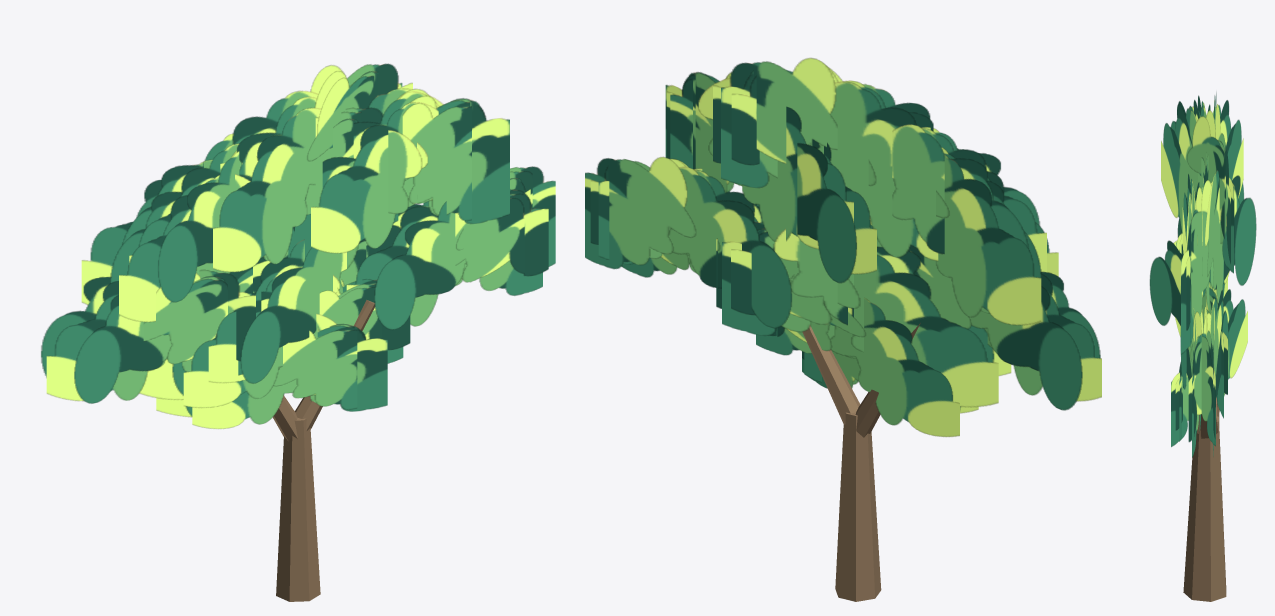
Rendered from TREE_NATIVE_ROUNDED_001_LOD_CLOSE.glb.
3 renders of one model, left to right at view 1: azimuth 30°, elevation 25°; view 2: azimuth 150°, elevation 25°; view 3: azimuth 270°, elevation 25°, orthographic. The views are drawn at different scales.
Parts seen in each view (by area): view 1: GG_TREE_NATIVE_ROUNDED_001_FRONT_02_01, GG_TREE_NATIVE_ROUNDED_001_FRONT_03_02, GG_TREE_NATIVE_ROUNDED_001_FRONT_05_02, GG_TREE_NATIVE_ROUNDED_001_BRANCH_00, GG_TREE_NATIVE_ROUNDED_001_FRONT_03_01, GG_TREE_NATIVE_ROUNDED_001_FRONT_04_01, GG_TREE_NATIVE_ROUNDED_001_FRONT_00_01, GG_TREE_NATIVE_ROUNDED_001_FRONT_01_02, GG_TREE_NATIVE_ROUNDED_001_FRONT_06_00, GG_TREE_NATIVE_ROUNDED_001_FRONT_00_00, GG_TREE_NATIVE_ROUNDED_001_REAR_03_01, GG_TREE_NATIVE_ROUNDED_001_FRONT_04_00 (+27 smaller); view 2: GG_TREE_NATIVE_ROUNDED_001_REAR_01_00, GG_TREE_NATIVE_ROUNDED_001_REAR_05_00, GG_TREE_NATIVE_ROUNDED_001_REAR_06_01, GG_TREE_NATIVE_ROUNDED_001_REAR_02_01, GG_TREE_NATIVE_ROUNDED_001_REAR_04_02, GG_TREE_NATIVE_ROUNDED_001_REAR_04_01, GG_TREE_NATIVE_ROUNDED_001_REAR_02_02, GG_TREE_NATIVE_ROUNDED_001_REAR_01_02, GG_TREE_NATIVE_ROUNDED_001_BRANCH_00, GG_TREE_NATIVE_ROUNDED_001_REAR_00_01, GG_TREE_NATIVE_ROUNDED_001_REAR_03_00, GG_TREE_NATIVE_ROUNDED_001_REAR_03_02 (+23 smaller); view 3: GG_TREE_NATIVE_ROUNDED_001_BRANCH_00, GG_TREE_NATIVE_ROUNDED_001_FRONT_02_01, GG_TREE_NATIVE_ROUNDED_001_REAR_03_01, GG_TREE_NATIVE_ROUNDED_001_FRONT_05_02, GG_TREE_NATIVE_ROUNDED_001_REAR_03_00, GG_TREE_NATIVE_ROUNDED_001_FRONT_02_02, GG_TREE_NATIVE_ROUNDED_001_REAR_03_02, GG_TREE_NATIVE_ROUNDED_001_REAR_06_01, GG_TREE_NATIVE_ROUNDED_001_FRONT_04_02, GG_TREE_NATIVE_ROUNDED_001_REAR_01_00, GG_TREE_NATIVE_ROUNDED_001_REAR_04_00, GG_TREE_NATIVE_ROUNDED_001_REAR_04_01 (+16 smaller).
Part boxes in pixels (left/top/right/bottom): GG_TREE_NATIVE_ROUNDED_001_FRONT_02_01: left=213, top=107, right=321, bottom=272; GG_TREE_NATIVE_ROUNDED_001_FRONT_03_02: left=311, top=102, right=438, bottom=253; GG_TREE_NATIVE_ROUNDED_001_FRONT_05_02: left=240, top=247, right=346, bottom=383; GG_TREE_NATIVE_ROUNDED_001_BRANCH_00: left=276, top=418, right=320, bottom=601; GG_TREE_NATIVE_ROUNDED_001_FRONT_03_01: left=402, top=103, right=471, bottom=221; GG_TREE_NATIVE_ROUNDED_001_FRONT_04_01: left=374, top=201, right=466, bottom=329; GG_TREE_NATIVE_ROUNDED_001_FRONT_00_01: left=74, top=272, right=200, bottom=403; GG_TREE_NATIVE_ROUNDED_001_FRONT_01_02: left=158, top=151, right=241, bottom=302; GG_TREE_NATIVE_ROUNDED_001_FRONT_06_00: left=273, top=330, right=365, bottom=409; GG_TREE_NATIVE_ROUNDED_001_FRONT_00_00: left=143, top=279, right=227, bottom=364; GG_TREE_NATIVE_ROUNDED_001_REAR_03_01: left=396, top=88, right=509, bottom=223; GG_TREE_NATIVE_ROUNDED_001_FRONT_04_00: left=455, top=198, right=524, bottom=282; GG_TREE_NATIVE_ROUNDED_001_REAR_01_00: left=936, top=154, right=1041, bottom=325; GG_TREE_NATIVE_ROUNDED_001_REAR_05_00: left=824, top=254, right=998, bottom=407; GG_TREE_NATIVE_ROUNDED_001_REAR_06_01: left=830, top=297, right=959, bottom=436; GG_TREE_NATIVE_ROUNDED_001_REAR_02_01: left=817, top=81, right=938, bottom=261; GG_TREE_NATIVE_ROUNDED_001_REAR_04_02: left=585, top=157, right=696, bottom=269; GG_TREE_NATIVE_ROUNDED_001_REAR_04_01: left=668, top=166, right=791, bottom=328; GG_TREE_NATIVE_ROUNDED_001_REAR_02_02: left=713, top=58, right=837, bottom=163; GG_TREE_NATIVE_ROUNDED_001_REAR_01_02: left=892, top=124, right=1028, bottom=254; GG_TREE_NATIVE_ROUNDED_001_BRANCH_00: left=835, top=412, right=881, bottom=601; GG_TREE_NATIVE_ROUNDED_001_REAR_00_01: left=969, top=286, right=1082, bottom=410; GG_TREE_NATIVE_ROUNDED_001_REAR_03_00: left=797, top=143, right=856, bottom=283; GG_TREE_NATIVE_ROUNDED_001_REAR_03_02: left=698, top=78, right=853, bottom=249; GG_TREE_NATIVE_ROUNDED_001_BRANCH_00: left=1183, top=416, right=1226, bottom=601; GG_TREE_NATIVE_ROUNDED_001_FRONT_02_01: left=1161, top=103, right=1197, bottom=233; GG_TREE_NATIVE_ROUNDED_001_REAR_03_01: left=1181, top=180, right=1211, bottom=354; GG_TREE_NATIVE_ROUNDED_001_FRONT_05_02: left=1149, top=240, right=1210, bottom=329; GG_TREE_NATIVE_ROUNDED_001_REAR_03_00: left=1210, top=175, right=1256, bottom=289; GG_TREE_NATIVE_ROUNDED_001_FRONT_02_02: left=1187, top=116, right=1234, bottom=246; GG_TREE_NATIVE_ROUNDED_001_REAR_03_02: left=1205, top=170, right=1229, bottom=303; GG_TREE_NATIVE_ROUNDED_001_REAR_06_01: left=1223, top=289, right=1247, bottom=396; GG_TREE_NATIVE_ROUNDED_001_FRONT_04_02: left=1190, top=311, right=1215, bottom=446; GG_TREE_NATIVE_ROUNDED_001_REAR_01_00: left=1212, top=100, right=1243, bottom=198; GG_TREE_NATIVE_ROUNDED_001_REAR_04_00: left=1188, top=312, right=1218, bottom=442; GG_TREE_NATIVE_ROUNDED_001_REAR_04_01: left=1209, top=290, right=1228, bottom=397.
Size of the model in its own units: 7.83 by 7.77 by 1.54.
2 materials, 1 textured.
